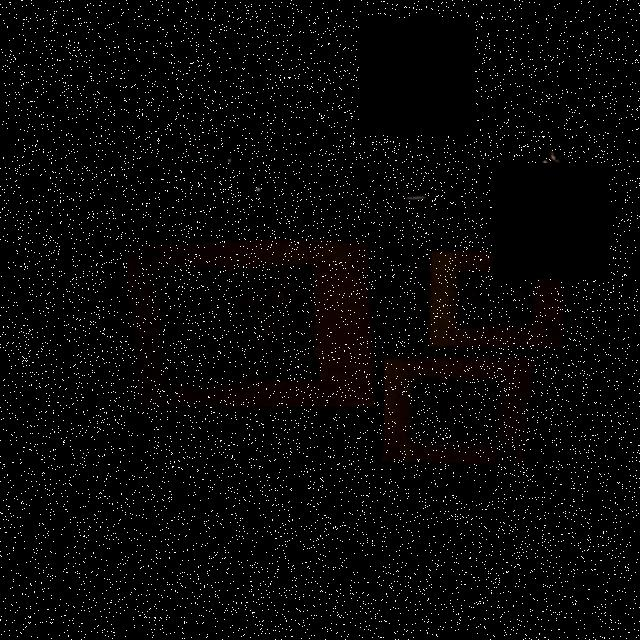QR_CODE: (144, 250, 328, 386), (398, 368, 512, 450), (444, 258, 545, 340)
